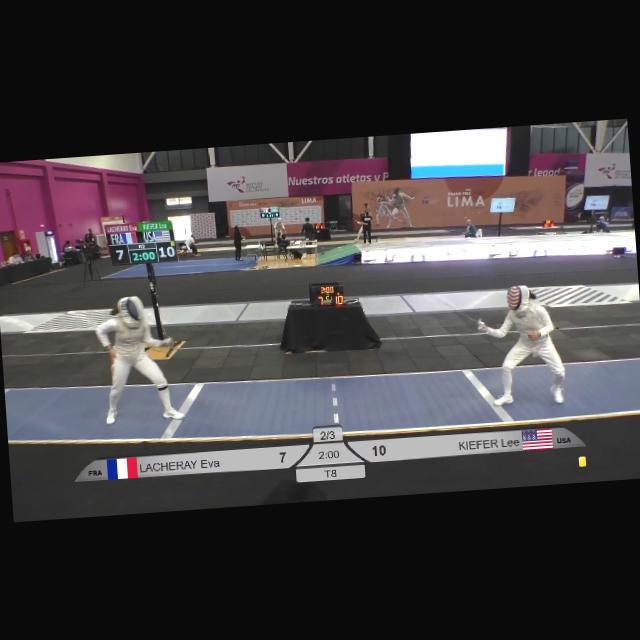blade: (423, 285, 486, 330)
